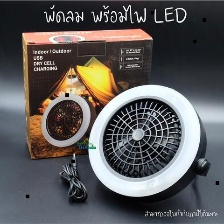book: (17, 23, 157, 164)
